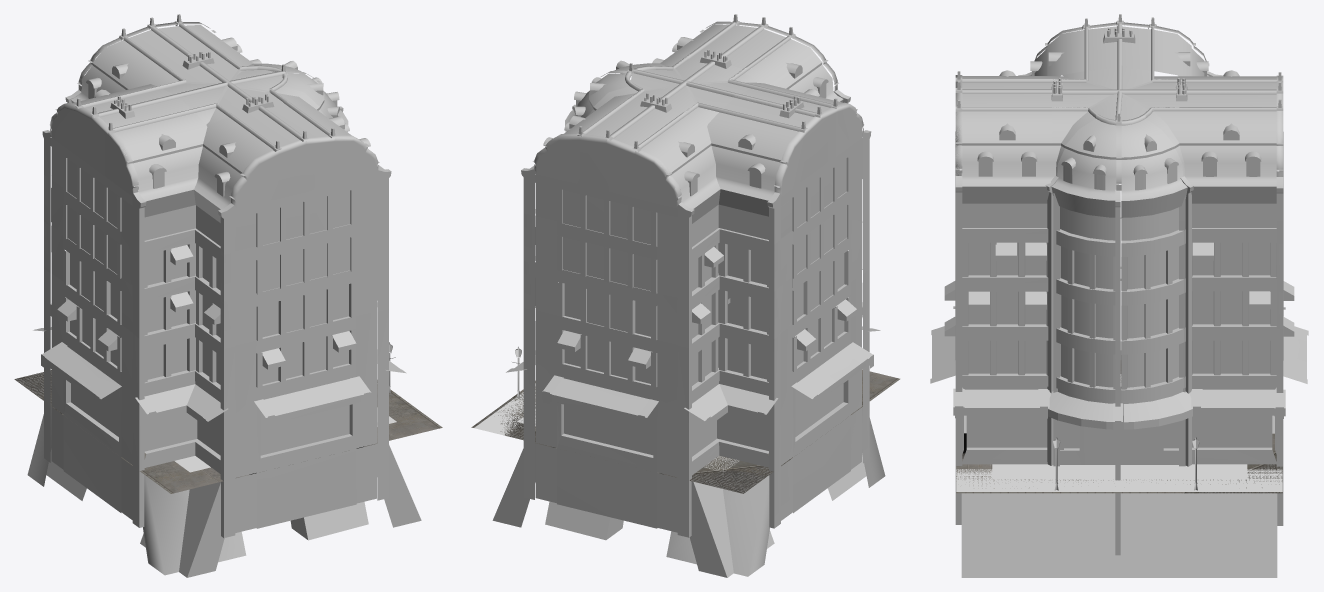
The model's file is mini_mall5.gltf.
3 views of the same model, side by side, from view 1: azimuth 30°, elevation 25°; view 2: azimuth 150°, elevation 25°; view 3: azimuth 270°, elevation 25° (orthographic). The views are drawn at different scales.
Parts seen in each view (by area): view 1: 5_lod0, ground; view 2: 5_lod0, ground, FeedbackBlocker.010; view 3: 5_lod0, FeedbackBlocker.010, UnevenBlocker.004, ground.
Boxes of the visible parts, x1,y1,x2,y2 form: 5_lod0: (27,14,421,577); ground: (14,370,442,493); 5_lod0: (492,14,885,577); ground: (471,369,899,493); FeedbackBlocker.010: (474,383,535,435); 5_lod0: (930,14,1308,577); FeedbackBlocker.010: (956,469,1282,491); UnevenBlocker.004: (992,374,1247,478); ground: (956,360,1282,493).
Size of what is drawn, in the model's own units: 3.27 by 4.42 by 3.5.
